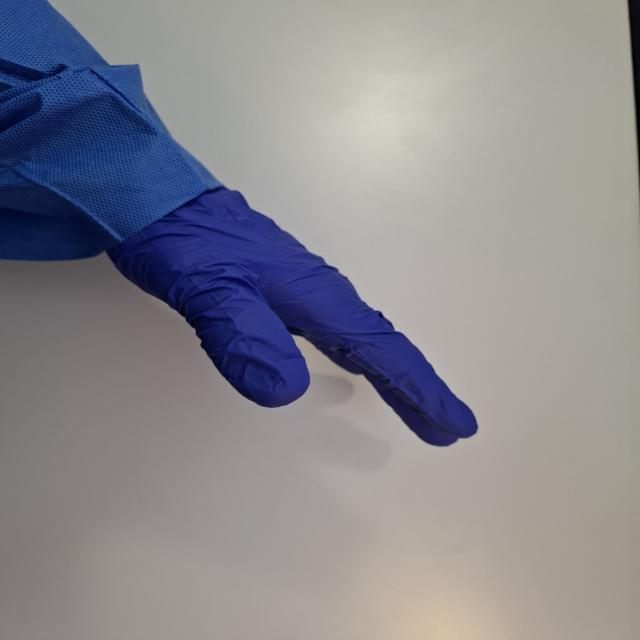glove_on: (103, 180, 480, 450)
